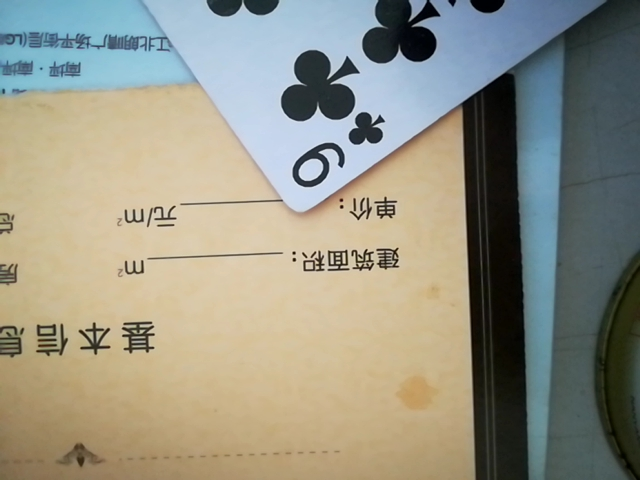mh 9: (111, 3, 622, 226)
